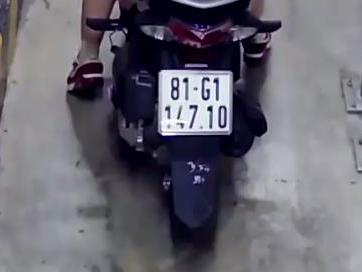num_plate: (159, 71, 233, 134)
